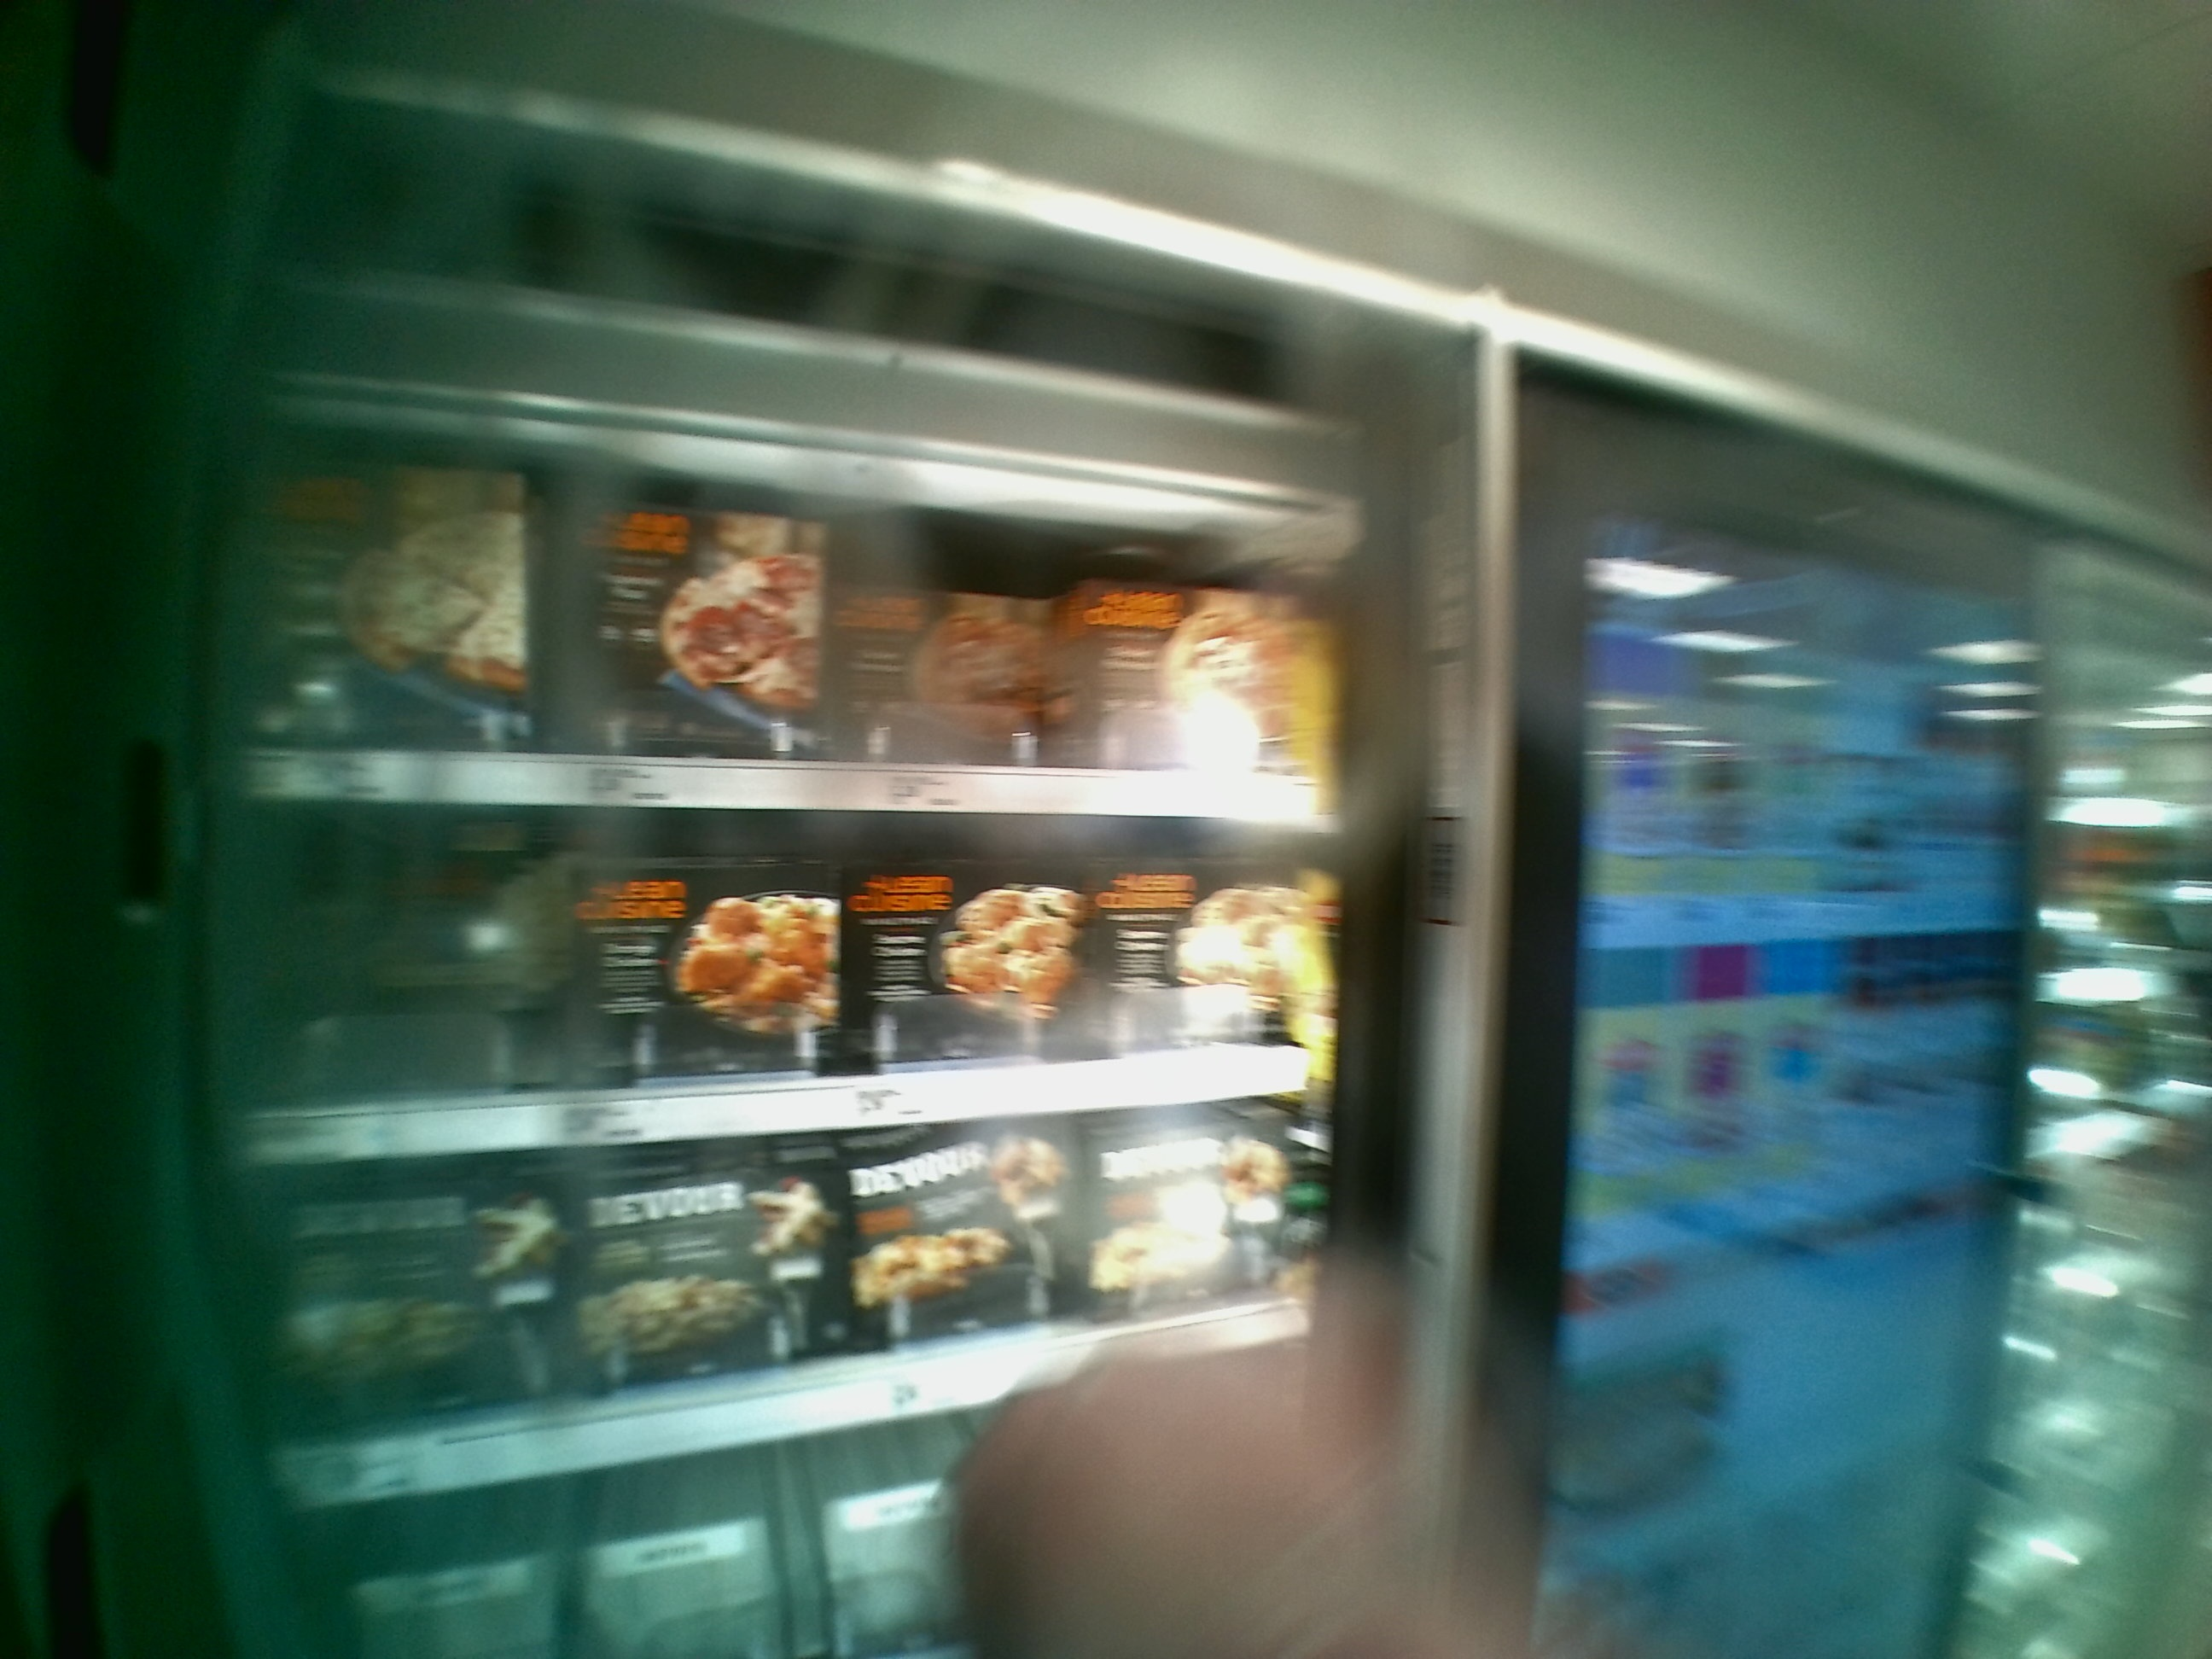shelf: (218, 390, 1325, 828), (193, 803, 1334, 1162)
